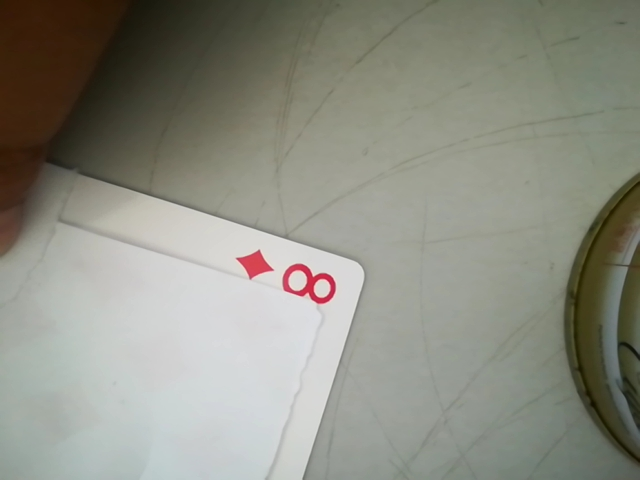fk 8: (238, 250, 358, 309)
